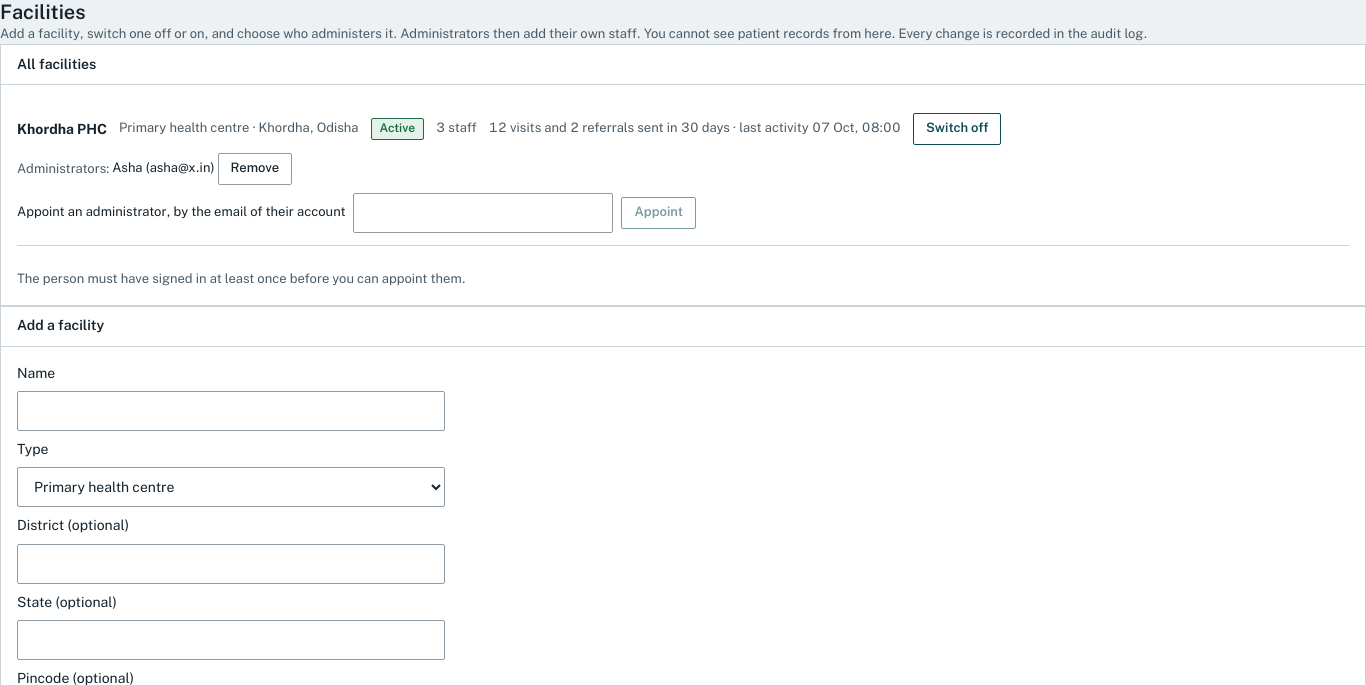
Scenario: PlatformPage › shows the server's reason when something is refused
This screenshot has width=1366, height=685.
Type "x@y.in" into the field labelled "Appoint an administrator, by the email of their account" at (484, 213), box [354,193,614,233]
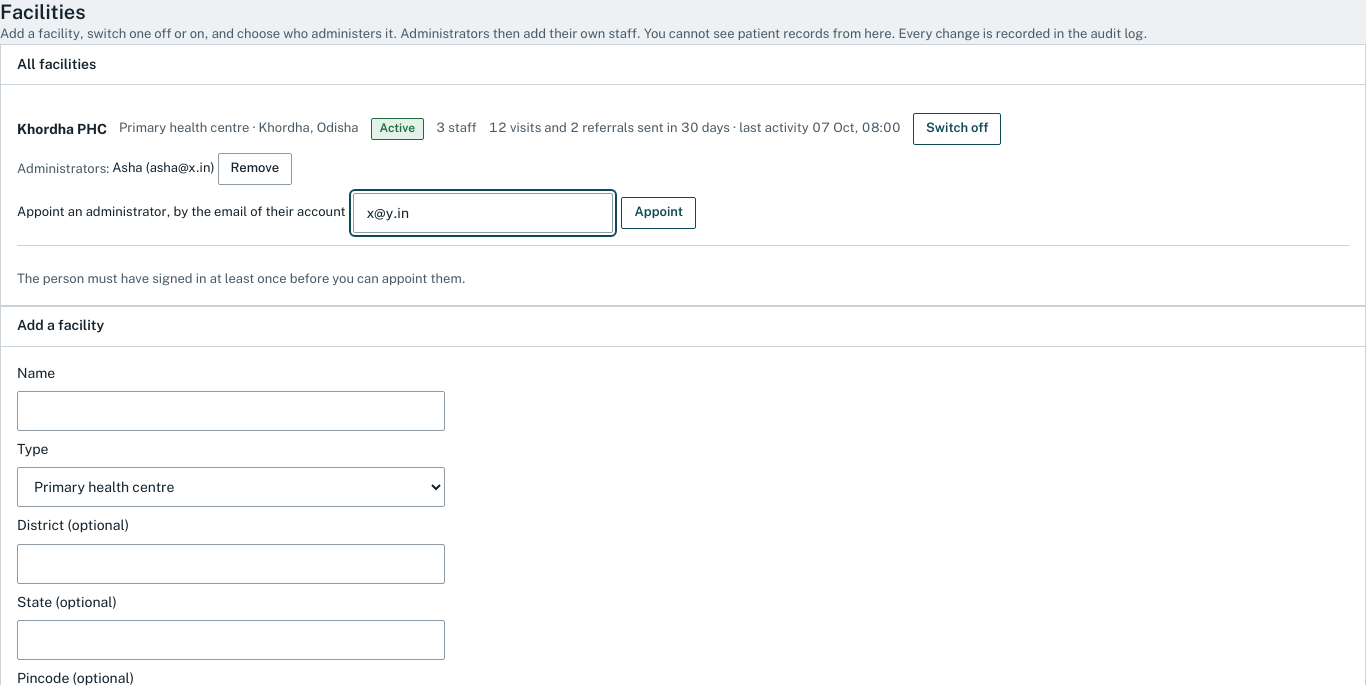
Click the button "Appoint" at (659, 213), box [622,197,696,229]
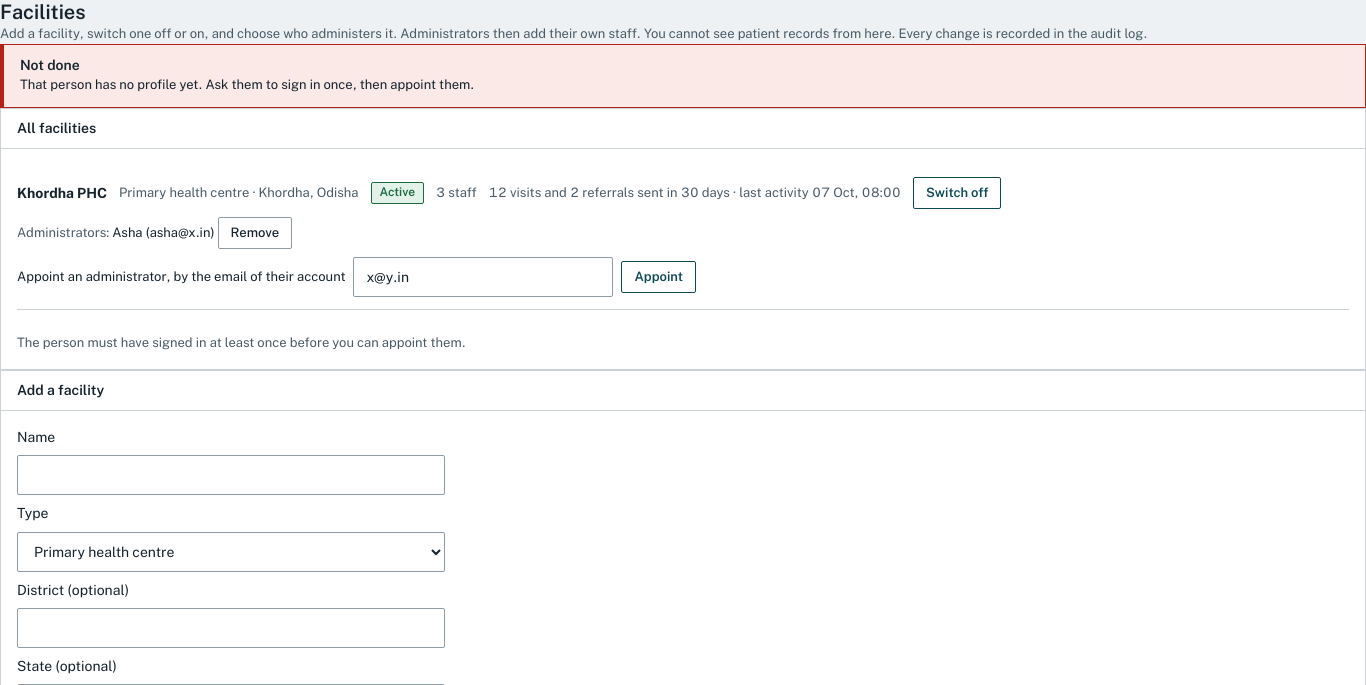
Expected: the text "sign in once" is shown, [20,77,474,92]
